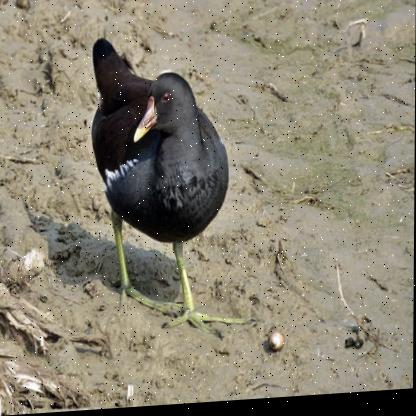Burung: (90, 31, 254, 352)
